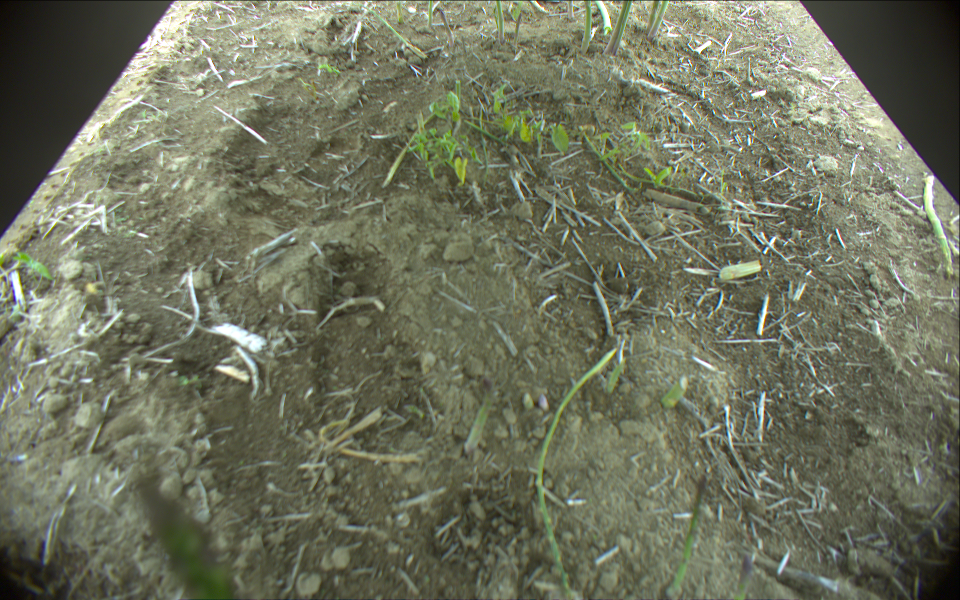aspa: (530, 346, 620, 600), (381, 95, 457, 184), (661, 472, 709, 600), (920, 171, 955, 275), (363, 5, 427, 61), (465, 384, 501, 454), (604, 1, 631, 55), (435, 7, 457, 51), (605, 358, 631, 393), (734, 555, 754, 600), (647, 1, 667, 43), (594, 1, 613, 31), (494, 1, 506, 41), (511, 11, 522, 54), (583, 1, 592, 53), (648, 1, 658, 31), (394, 1, 406, 22), (531, 1, 550, 14), (567, 3, 577, 19), (428, 1, 433, 27)
